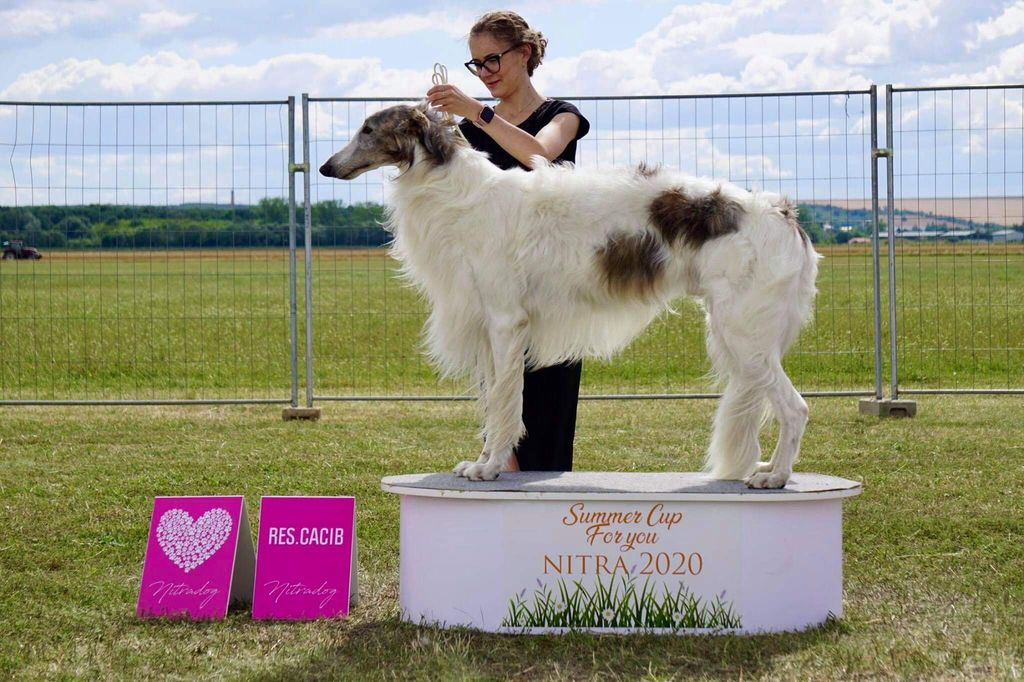borzoi: (311, 104, 829, 489)
